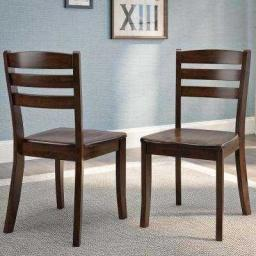Chair: (4, 48, 127, 247), (138, 48, 253, 242)
